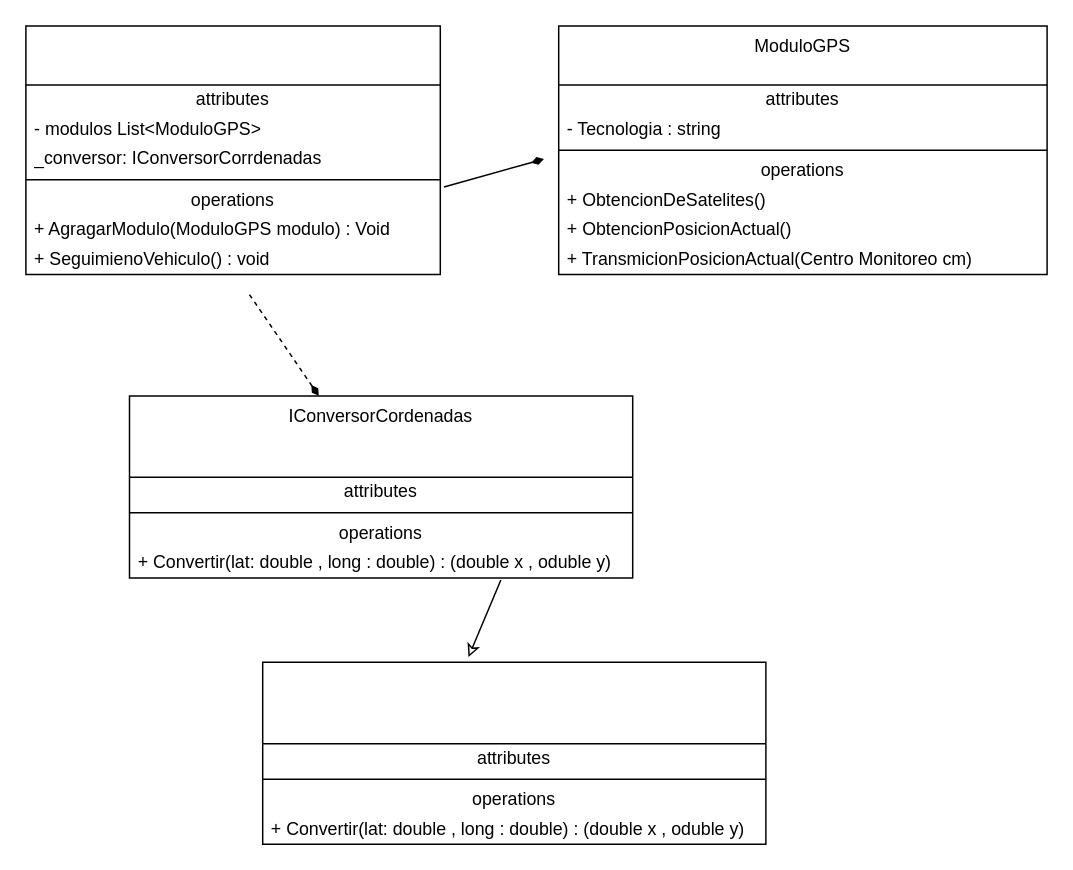
Image size: 1073x870. Some labels were removed from this diagram. The box of each missing label's shape, as (x1, y1, x2, y2) in pixels:
CentroMonitereo: (24, 24, 440, 275)
ConversorUTM: (261, 661, 766, 844)
